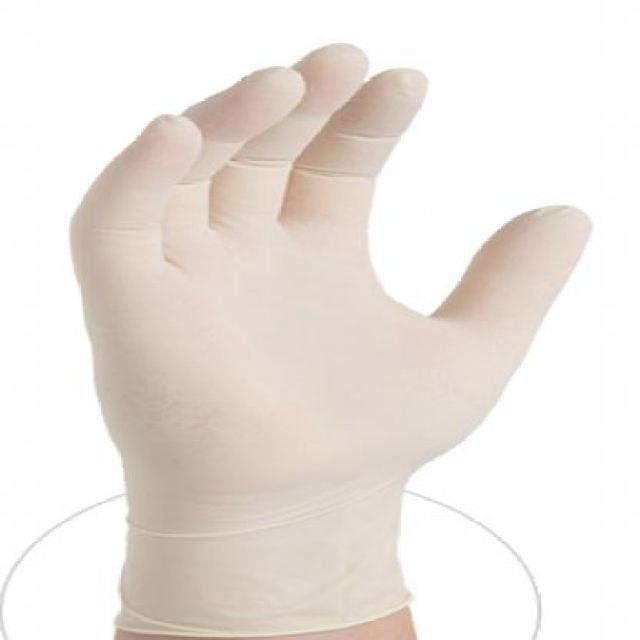Guantes: (95, 52, 568, 640)
